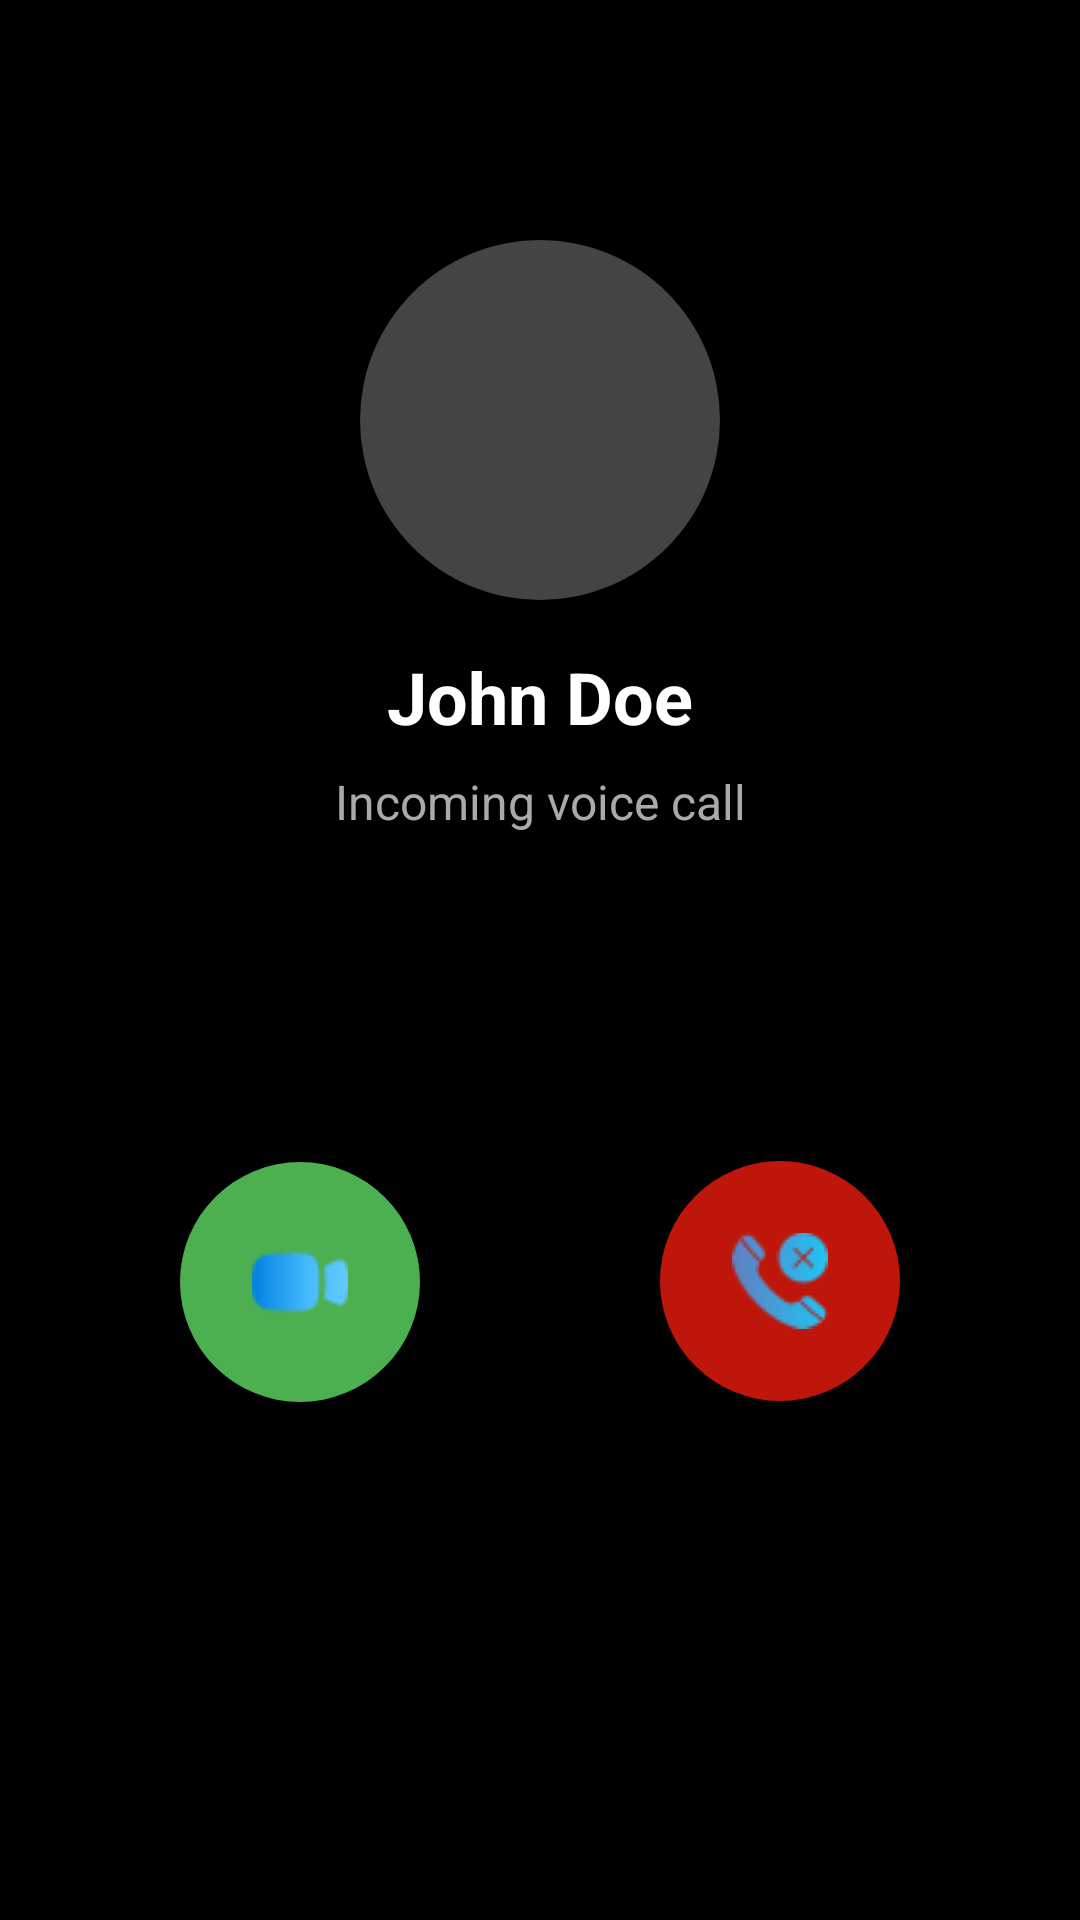

Named icons in this screenshot (1080*1920) and their bounding boxes, (x1, y1, x2, y2):
Accept: (180, 1162, 420, 1402)
Reject: (660, 1161, 900, 1401)
